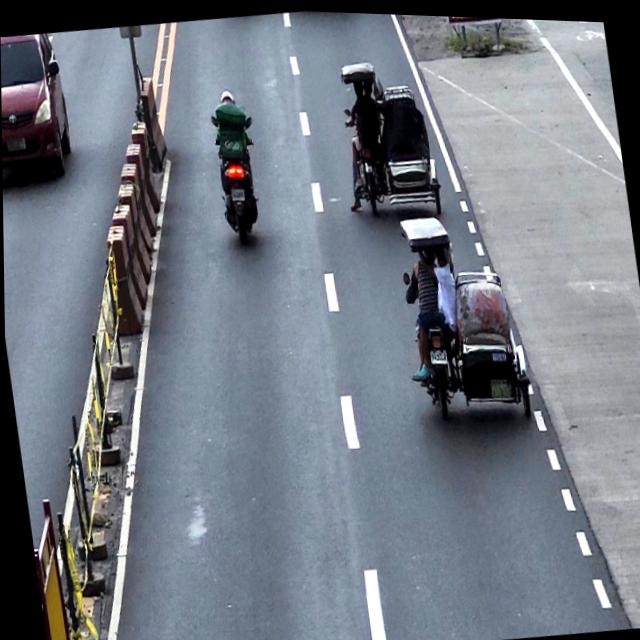Car: (0, 30, 76, 189)
License-Plate: (3, 135, 26, 154), (427, 344, 448, 362), (230, 185, 246, 200)
Motorcycle: (209, 106, 266, 242)
Tricycle: (393, 201, 534, 431), (335, 50, 444, 224)
